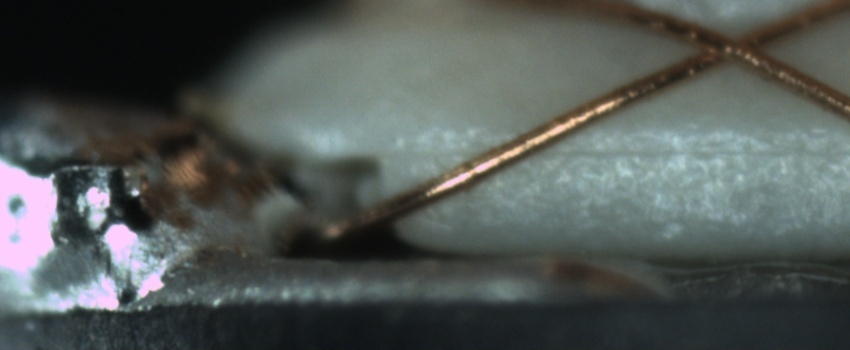CL: (679, 12, 791, 78)
DL: (415, 114, 849, 181)
